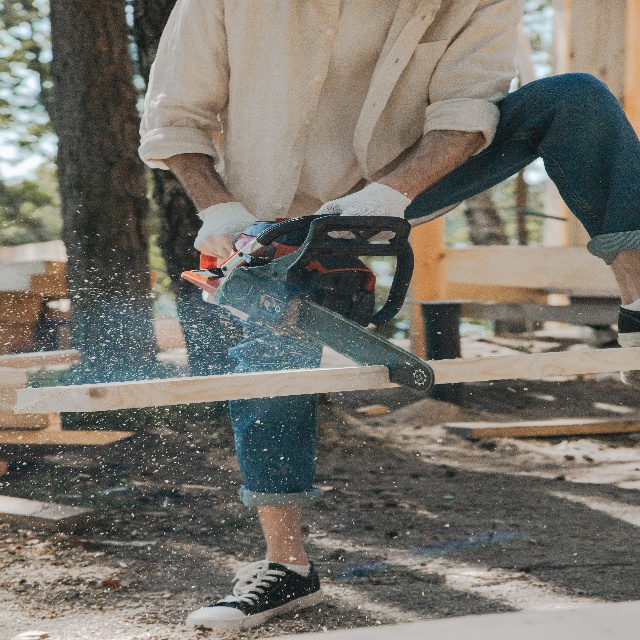Guantes: (312, 170, 413, 240), (192, 192, 263, 262)
